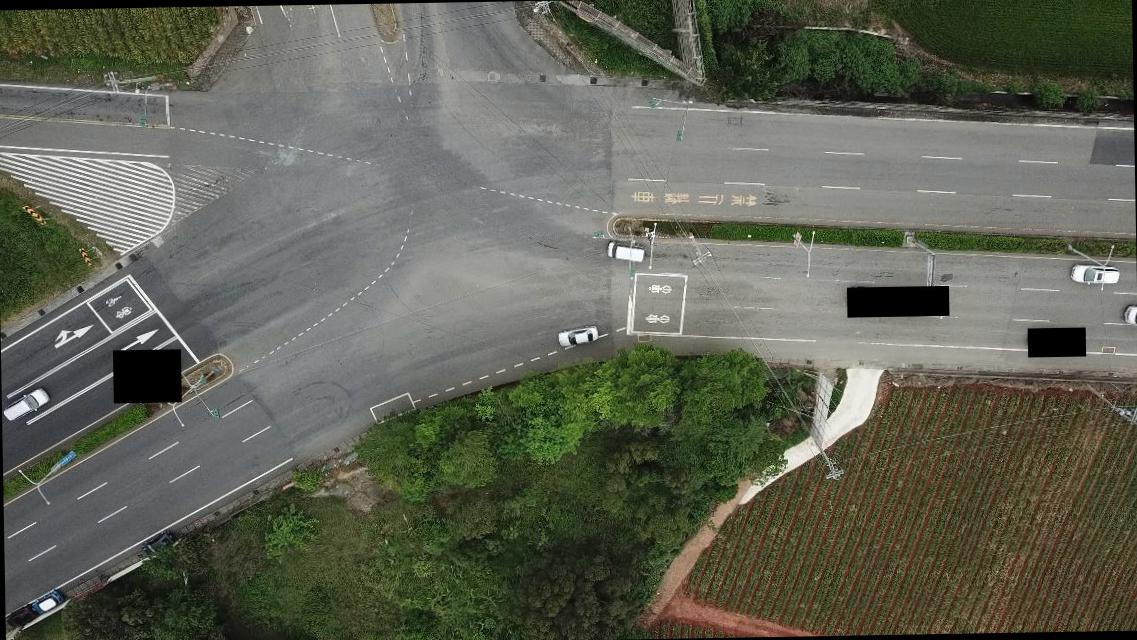vehicle: (2, 385, 54, 422), (1068, 264, 1120, 286), (556, 324, 598, 348), (605, 240, 648, 262), (32, 588, 63, 612), (144, 532, 173, 554)
